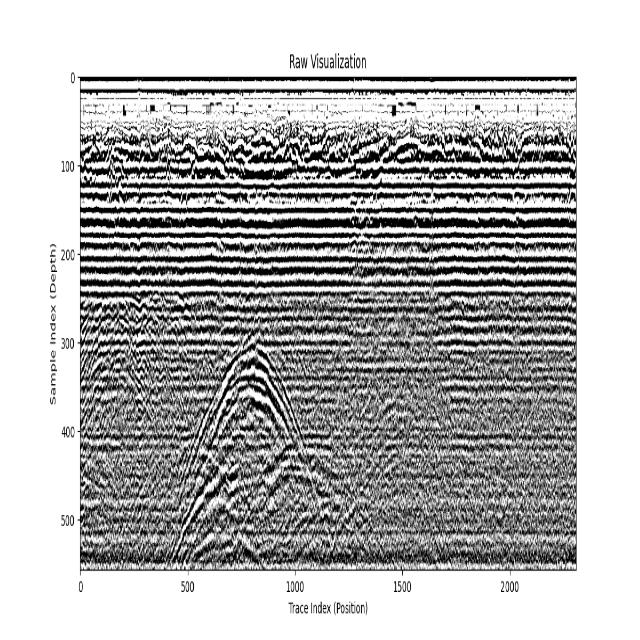anomaly: (163, 334, 350, 565), (229, 451, 372, 568), (82, 316, 159, 460), (163, 479, 271, 561)
